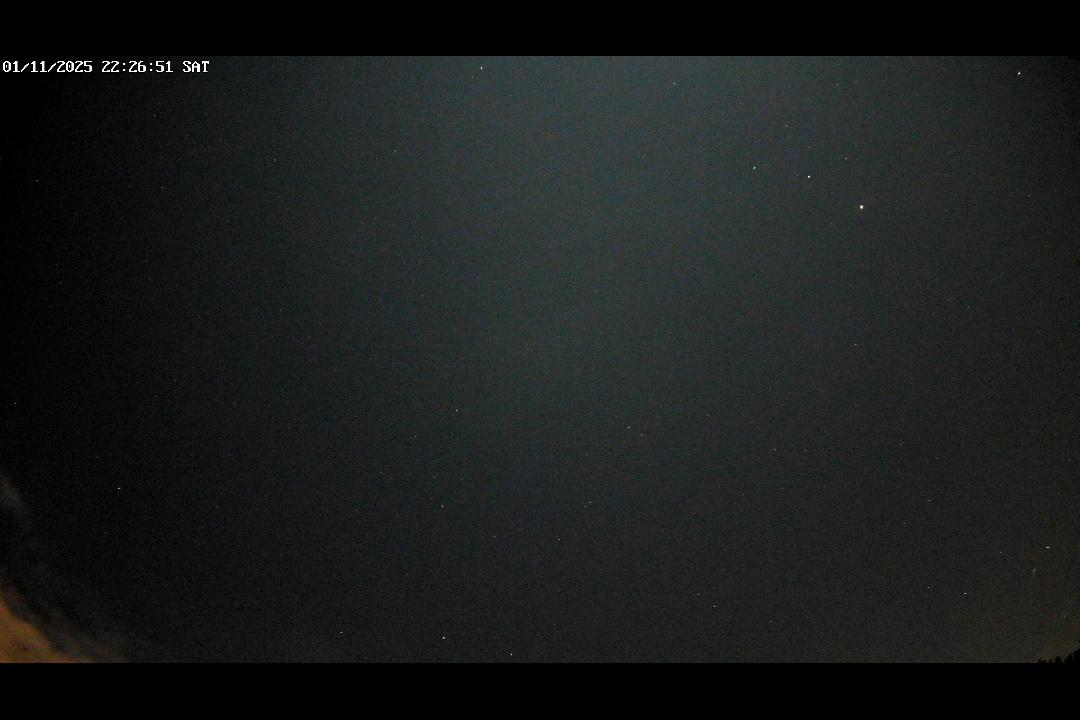Plane: (1027, 566, 1040, 589)
